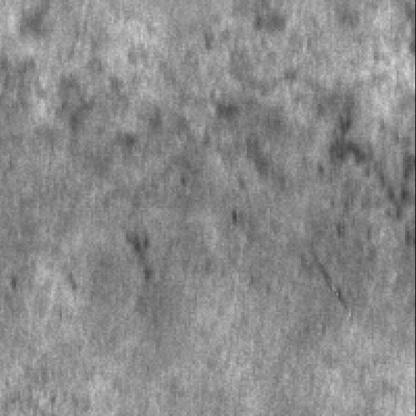rolled-in_scale: (209, 0, 410, 266), (54, 62, 179, 266)
